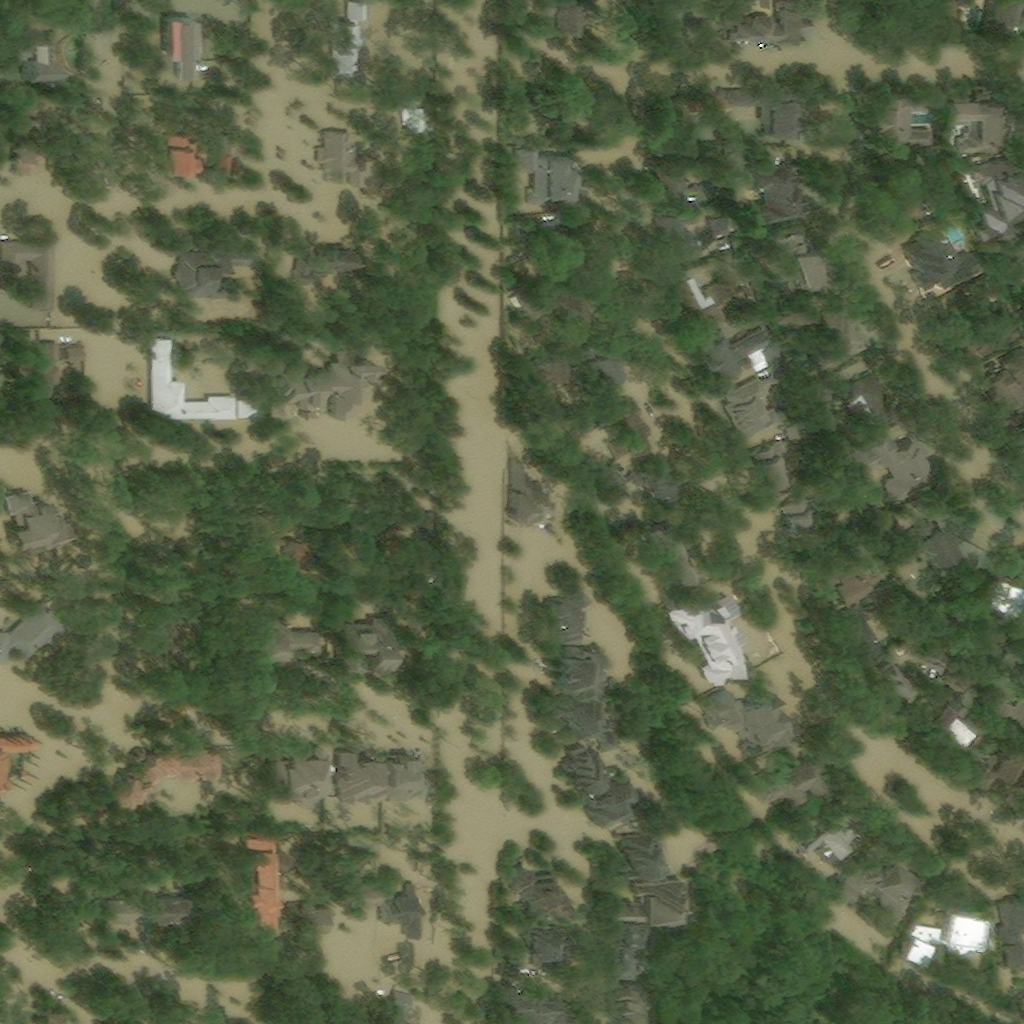destroyed: (508, 452, 558, 527), (6, 114, 45, 178), (335, 876, 381, 913), (211, 132, 235, 178), (142, 857, 169, 886), (161, 1016, 190, 1023)
major_damage: (106, 739, 222, 820), (276, 346, 379, 428), (673, 597, 751, 696), (147, 338, 238, 422), (847, 429, 933, 517), (779, 549, 894, 609), (701, 689, 796, 761), (605, 821, 675, 918), (548, 639, 613, 739), (831, 851, 921, 916), (878, 162, 967, 221), (721, 369, 789, 444), (749, 752, 825, 819), (671, 269, 759, 326), (949, 303, 1022, 370), (905, 230, 980, 294), (731, 0, 808, 61), (807, 302, 868, 378), (3, 488, 70, 557), (0, 600, 66, 667), (843, 370, 901, 445), (175, 248, 251, 302), (874, 92, 941, 152), (2, 242, 57, 315), (973, 162, 1022, 242), (325, 0, 372, 83), (729, 90, 800, 144), (779, 810, 860, 857), (749, 164, 808, 228), (643, 519, 698, 587), (698, 327, 772, 376), (163, 10, 212, 83), (273, 744, 328, 807), (241, 509, 302, 565), (241, 618, 318, 662), (654, 88, 720, 139), (950, 97, 1005, 157), (295, 239, 360, 289), (518, 147, 574, 205), (337, 611, 390, 672), (241, 835, 275, 930), (541, 579, 590, 641), (580, 772, 631, 831), (608, 395, 651, 464), (983, 347, 1022, 423), (318, 132, 365, 194), (579, 342, 626, 403), (511, 863, 563, 916), (498, 979, 560, 1023), (912, 524, 962, 578), (517, 0, 577, 45), (839, 604, 884, 663), (658, 209, 704, 264), (13, 34, 60, 87), (562, 739, 608, 793), (337, 746, 382, 800), (0, 729, 36, 796), (383, 747, 425, 803), (940, 905, 985, 957), (995, 896, 1022, 972), (604, 916, 638, 976), (982, 569, 1022, 620), (926, 703, 972, 747), (898, 922, 939, 970), (785, 506, 827, 552), (524, 921, 565, 967), (753, 443, 792, 491), (161, 131, 202, 176), (789, 243, 830, 288), (529, 346, 572, 388), (603, 973, 638, 1023), (630, 459, 674, 496), (377, 983, 415, 1023), (143, 889, 189, 922), (378, 888, 417, 926), (597, 471, 631, 513), (96, 892, 135, 926), (291, 898, 324, 936), (658, 151, 683, 200), (961, 754, 993, 787), (153, 602, 179, 641), (989, 744, 1022, 774), (923, 643, 954, 673), (512, 289, 542, 319), (872, 657, 903, 686), (239, 395, 272, 421), (550, 86, 570, 123), (403, 108, 428, 137), (990, 0, 1020, 23), (37, 343, 62, 370), (810, 380, 834, 407), (711, 218, 737, 241), (999, 998, 1019, 1018), (507, 107, 527, 127), (696, 185, 713, 205), (598, 733, 616, 751), (18, 10, 31, 34), (45, 1009, 67, 1023), (68, 348, 87, 364), (956, 0, 988, 9), (340, 592, 355, 608), (64, 340, 78, 347)
unclassified: (558, 287, 597, 345), (539, 256, 579, 277), (879, 10, 904, 43), (649, 0, 672, 23), (915, 24, 939, 43)
